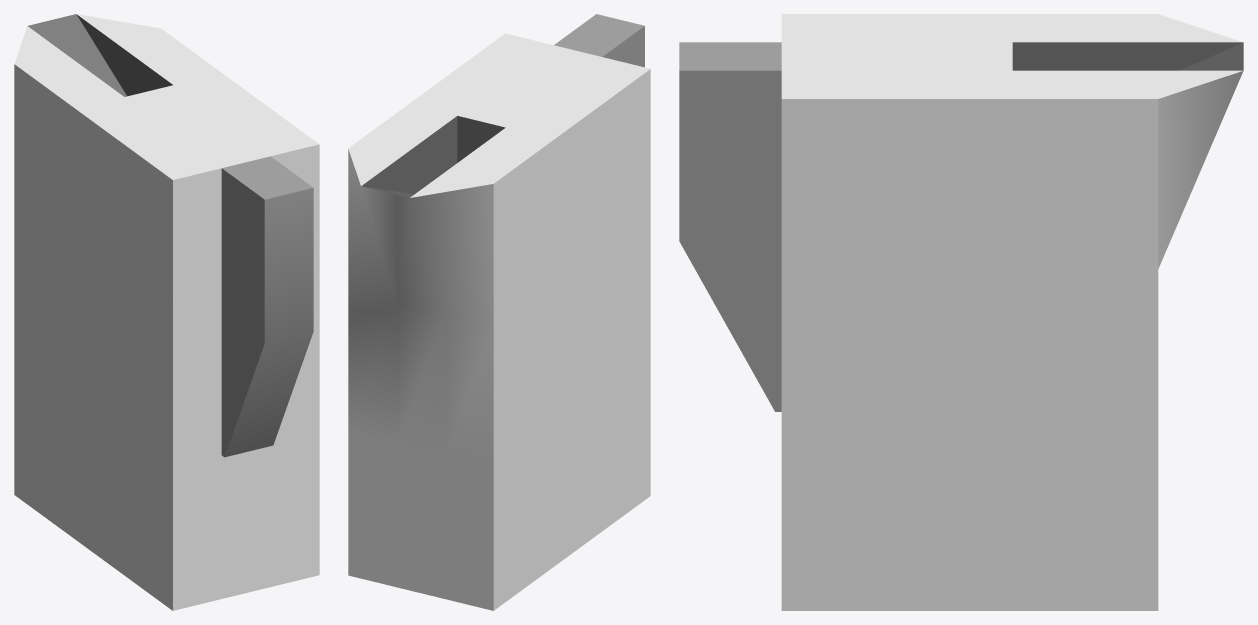
The model's file is kettle.fbx.
3 renders of one model, left to right at view 1: azimuth 30°, elevation 25°; view 2: azimuth 150°, elevation 25°; view 3: azimuth 270°, elevation 25°, orthographic. The views are drawn at different scales.
Parts seen in each view (by area): view 1: pCube1; view 2: pCube1; view 3: pCube1.
Part boxes in pixels (left/top/right/bottom): pCube1: left=14, top=14, right=319, bottom=610; pCube1: left=348, top=14, right=650, bottom=610; pCube1: left=679, top=14, right=1243, bottom=610.
Bounding box in the file's own units: 2.67 × 7.5 × 7.49.
Materials: 1 (1 with a texture image).
